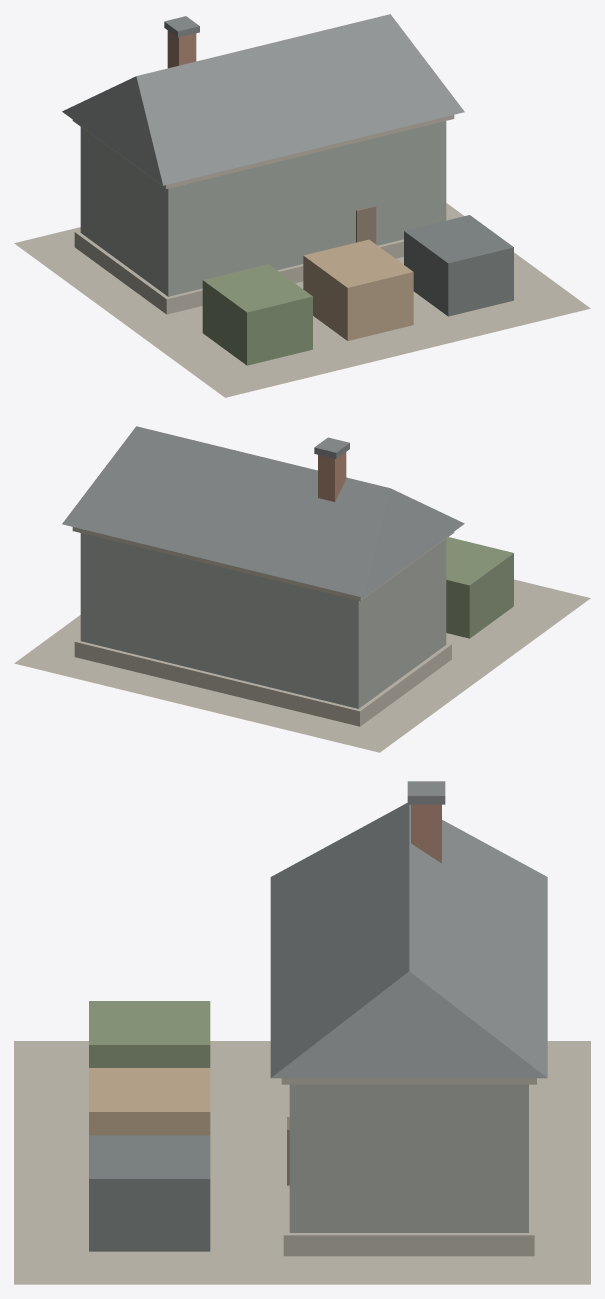
3 renders of one model, top to bottom at view 1: azimuth 30°, elevation 25°; view 2: azimuth 150°, elevation 25°; view 3: azimuth 270°, elevation 25°, orthographic. The views are drawn at different scales.
Visible parts, largest first — view 1: Near; view 2: Near; view 3: Near.
Boxes of the visible parts, x1,y1,x2,y2 form: Near: [14, 14, 590, 397]; Near: [14, 426, 590, 752]; Near: [14, 781, 590, 1284].
Bounding box in the file's own units: 2 × 1.24 × 2.
